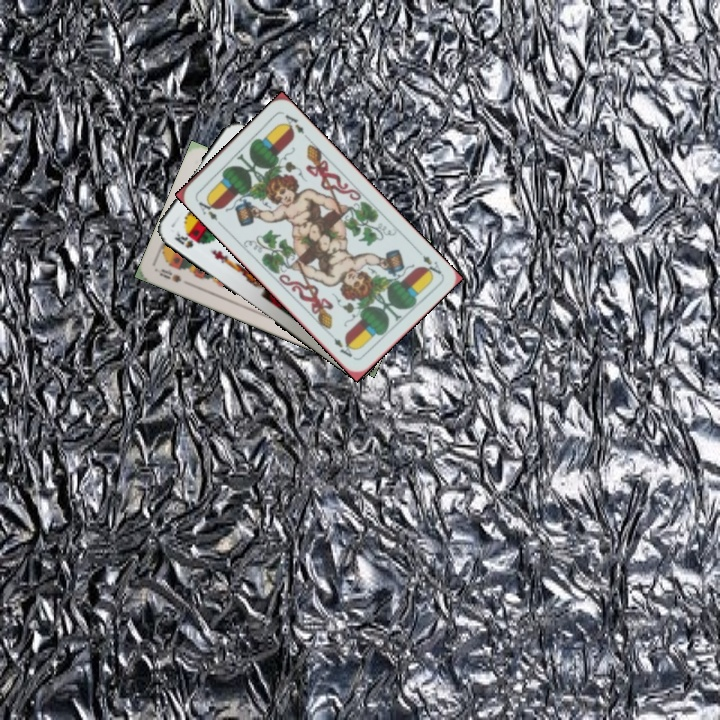EA: (193, 194, 224, 228), (418, 251, 444, 280)
S8: (156, 265, 184, 285)
SK: (170, 226, 196, 251)
